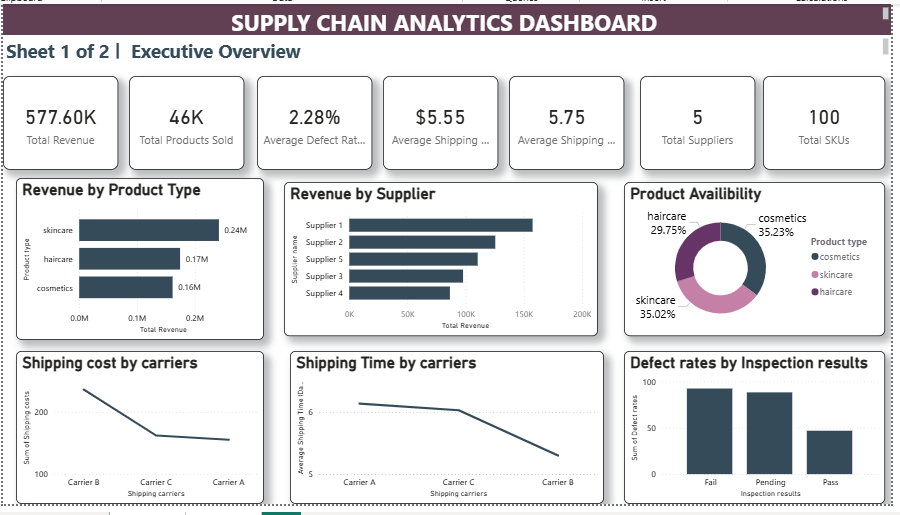

Layout of this report page (visuals, bound fields, positions):
{"tool":"powerbi","page":{"name":"Page 1","canvas":[1280,720],"ordinal":0},"visuals":[{"type":"card","fields":{"Values":["supply_chain_data.Total Revenue"]},"box":[0,103.7,165.6,135.4],"z":0},{"type":"card","fields":{"Values":["supply_chain_data.Total Products Sold"]},"box":[181.4,103.7,165.6,135.4],"z":1},{"type":"card","fields":{"Values":["supply_chain_data.Average Defect Rate %"]},"box":[365.8,103.7,165.6,135.4],"z":2},{"type":"card","fields":{"Values":["supply_chain_data.Average Shipping cost"]},"box":[547.2,103.7,165.6,135.4],"z":3},{"type":"card","fields":{"Values":["supply_chain_data.Average Shipping Time"]},"box":[728.6,103.7,165.6,135.4],"z":4},{"type":"card","fields":{"Values":["supply_chain_data.Total Suppliers"]},"box":[917.3,103.7,165.6,135.4],"z":5},{"type":"card","fields":{"Values":["supply_chain_data.Total SKUs"]},"box":[1094.4,103.7,175.7,135.4],"z":6},{"type":"clusteredBarChart","title":" Revenue by Product Type","fields":{"Category":["supply_chain_data.Product type"],"Y":["supply_chain_data.Total Revenue"]},"box":[18.7,250.6,357.1,233.3],"z":7},{"type":"barChart","title":" Revenue by Supplier","fields":{"Category":["supply_chain_data.Supplier name"],"Y":["supply_chain_data.Total Revenue"]},"box":[404.6,256.3,452.2,221.8],"z":8},{"type":"donutChart","title":"Product Availibility ","fields":{"Category":["supply_chain_data.Product type"],"Y":["supply_chain_data.AVERAGE Availibility"]},"box":[894.2,256.3,375.8,221.8],"z":9},{"type":"lineChart","title":" Shipping Time by carriers","fields":{"Category":["supply_chain_data.Shipping carriers"],"Y":["supply_chain_data.Average Shipping Time"]},"box":[413.3,499.7,452.2,220.3],"z":11},{"type":"columnChart","title":"Defect rates by Inspection results","fields":{"Category":["supply_chain_data.Inspection results"],"Y":["Sum(supply_chain_data.Defect rates)"]},"box":[894.2,499.7,375.8,220.3],"z":12},{"type":"textbox","box":[0,0,1280.2,44.6],"z":13},{"type":"lineChart","title":"Shipping cost by carriers","fields":{"Category":["supply_chain_data.Shipping carriers"],"Y":["Sum(supply_chain_data.Shipping costs)"]},"box":[19,500,357,220],"z":14},{"type":"textbox","box":[0,44.6,1280.2,38.9],"z":15}]}

Visuals, with their boxes in screenshot pixels (x1, y1, x2, y2), scaled from the page's 1280x720 canvas onto the 900x515 screenshot:
card - supply_chain_data.Total Revenue: bbox=[0, 74, 116, 171]
card - supply_chain_data.Total Products Sold: bbox=[128, 74, 244, 171]
card - supply_chain_data.Average Defect Rate %: bbox=[257, 74, 374, 171]
card - supply_chain_data.Average Shipping cost: bbox=[385, 74, 501, 171]
card - supply_chain_data.Average Shipping Time: bbox=[512, 74, 629, 171]
card - supply_chain_data.Total Suppliers: bbox=[645, 74, 761, 171]
card - supply_chain_data.Total SKUs: bbox=[770, 74, 893, 171]
" Revenue by Product Type" clusteredBarChart: bbox=[13, 179, 264, 346]
" Revenue by Supplier" barChart: bbox=[284, 183, 602, 342]
"Product Availibility " donutChart: bbox=[629, 183, 893, 342]
" Shipping Time by carriers" lineChart: bbox=[291, 357, 609, 514]
"Defect rates by Inspection results" columnChart: bbox=[629, 357, 893, 514]
textbox: bbox=[0, 0, 899, 32]
"Shipping cost by carriers" lineChart: bbox=[13, 358, 264, 514]
textbox: bbox=[0, 32, 899, 60]
